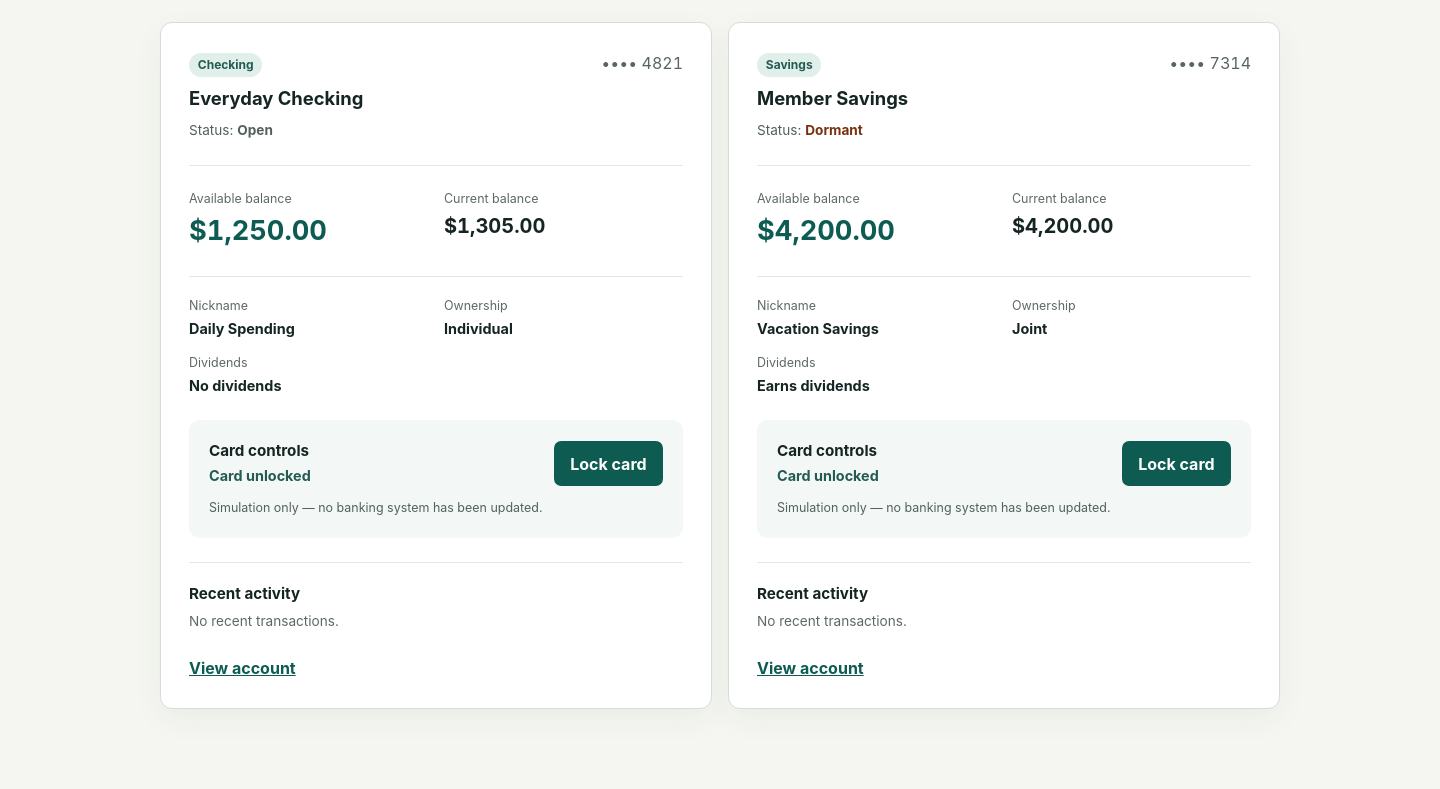
Test: local card lock simulation › changes a locked card back to unlocked
The image size is (1440, 789).
(page scrolled)
Click the button named "Lock card for Everyday Checking".
click(608, 464)  # box 554,441 -> 663,486
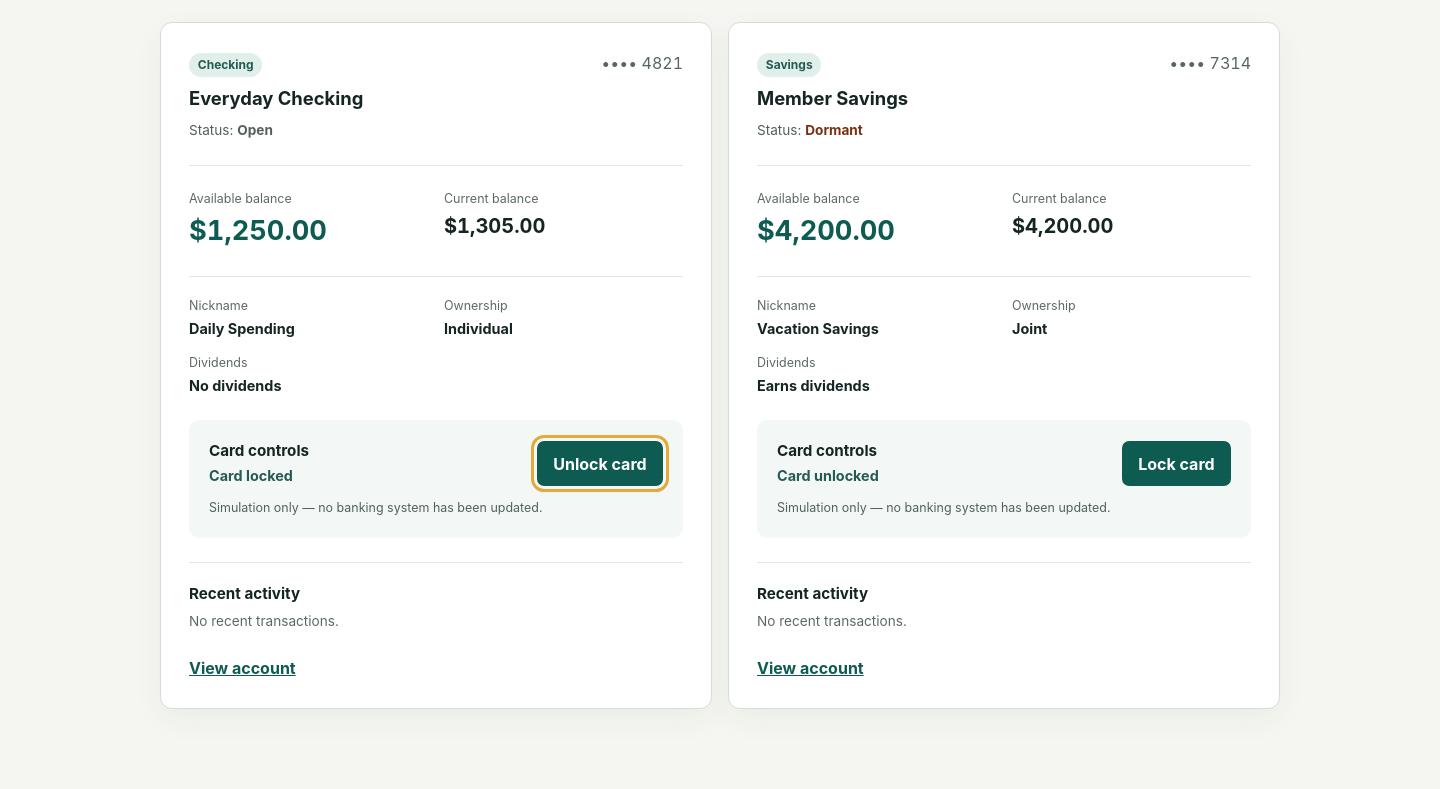
Click the button named "Unlock card for Everyday Checking".
click(600, 464)  # box 537,441 -> 663,486
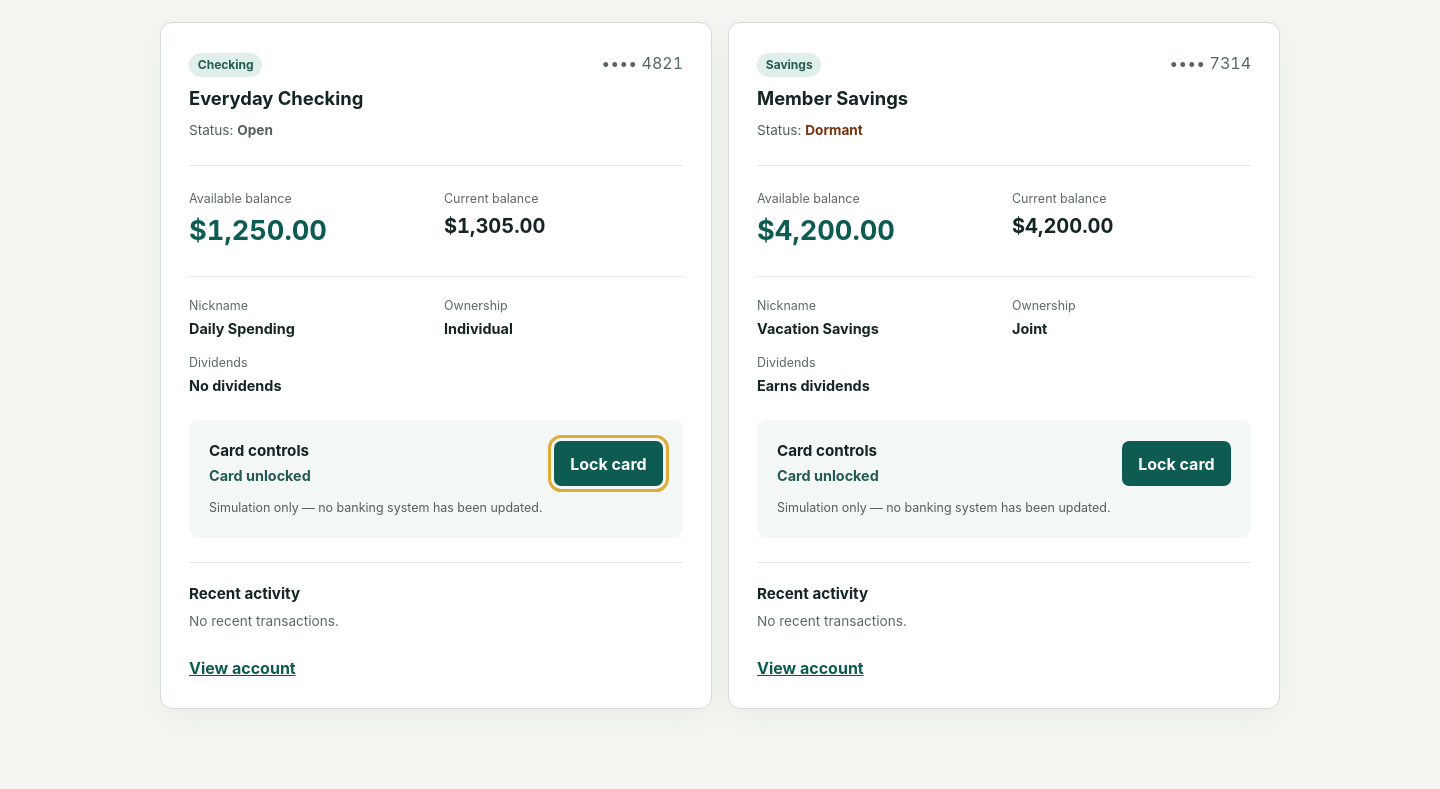
Now the text "Card unlocked" below "No dividends" is shown, box 209,467 -> 311,484
